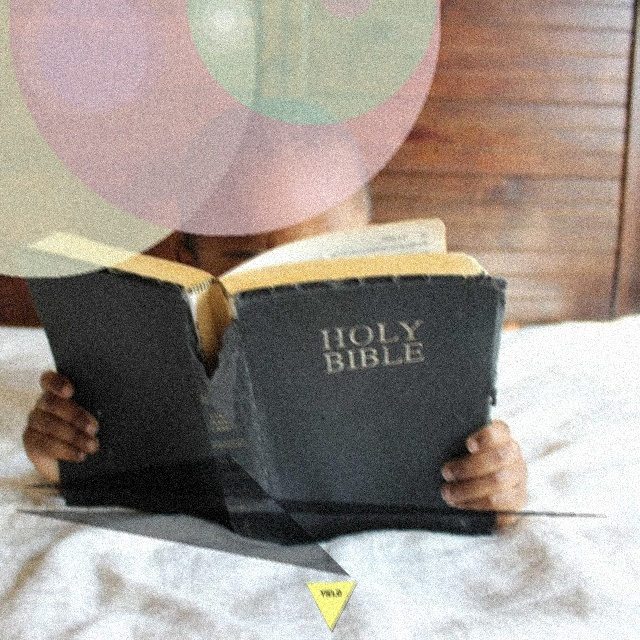YIELD: (306, 581, 358, 632)
